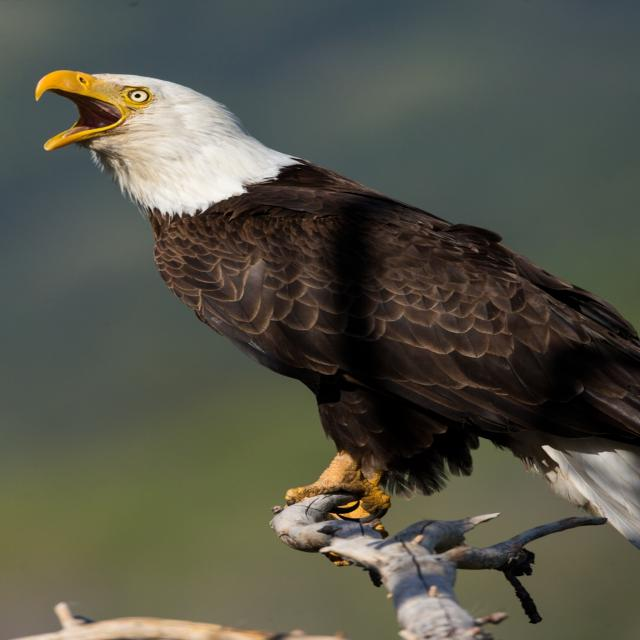Eagle: (27, 65, 640, 509)
